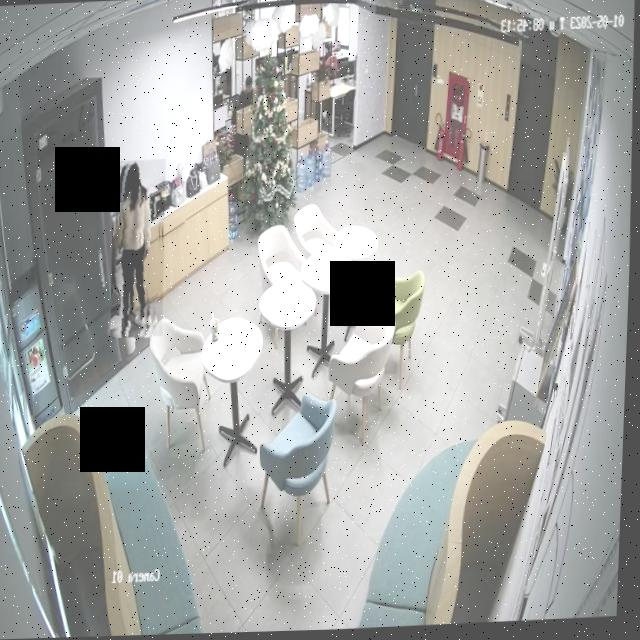person: (110, 159, 170, 339)
